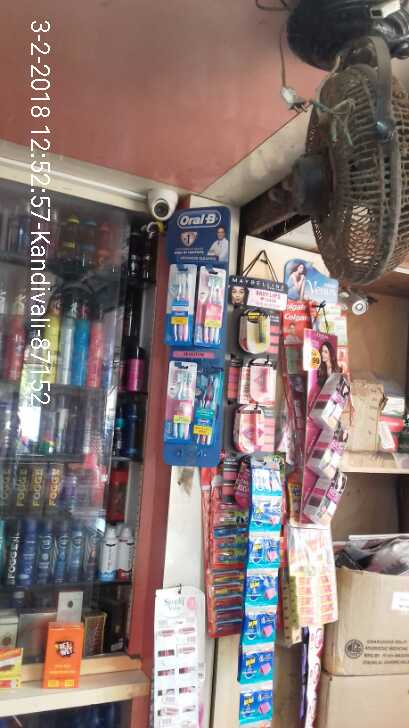oralb: (158, 362, 216, 448), (160, 265, 219, 348)
